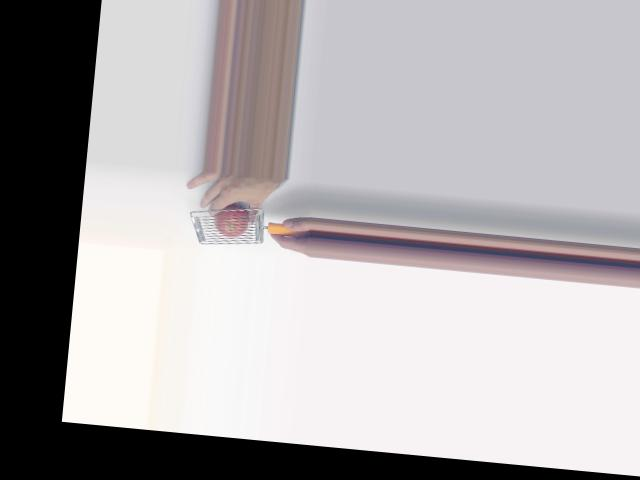tomato: (214, 203, 251, 238)
